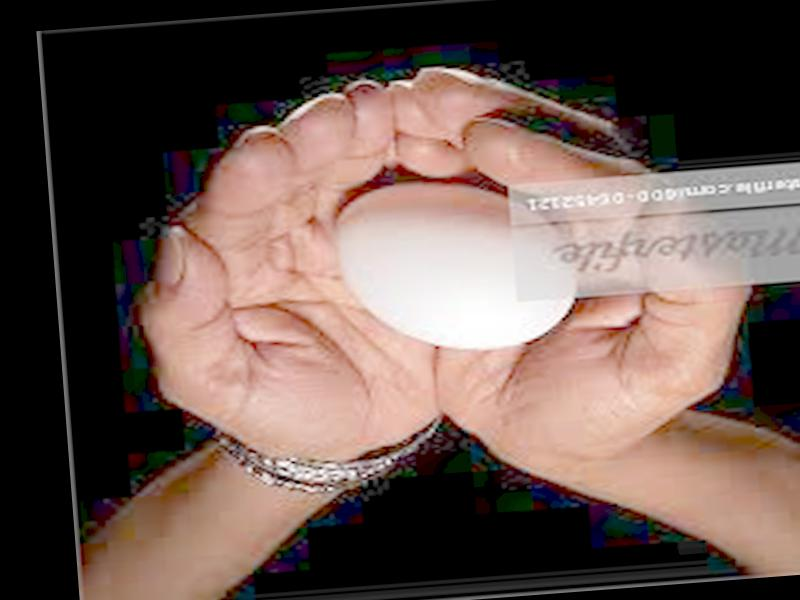Eggs: (329, 169, 580, 360)
